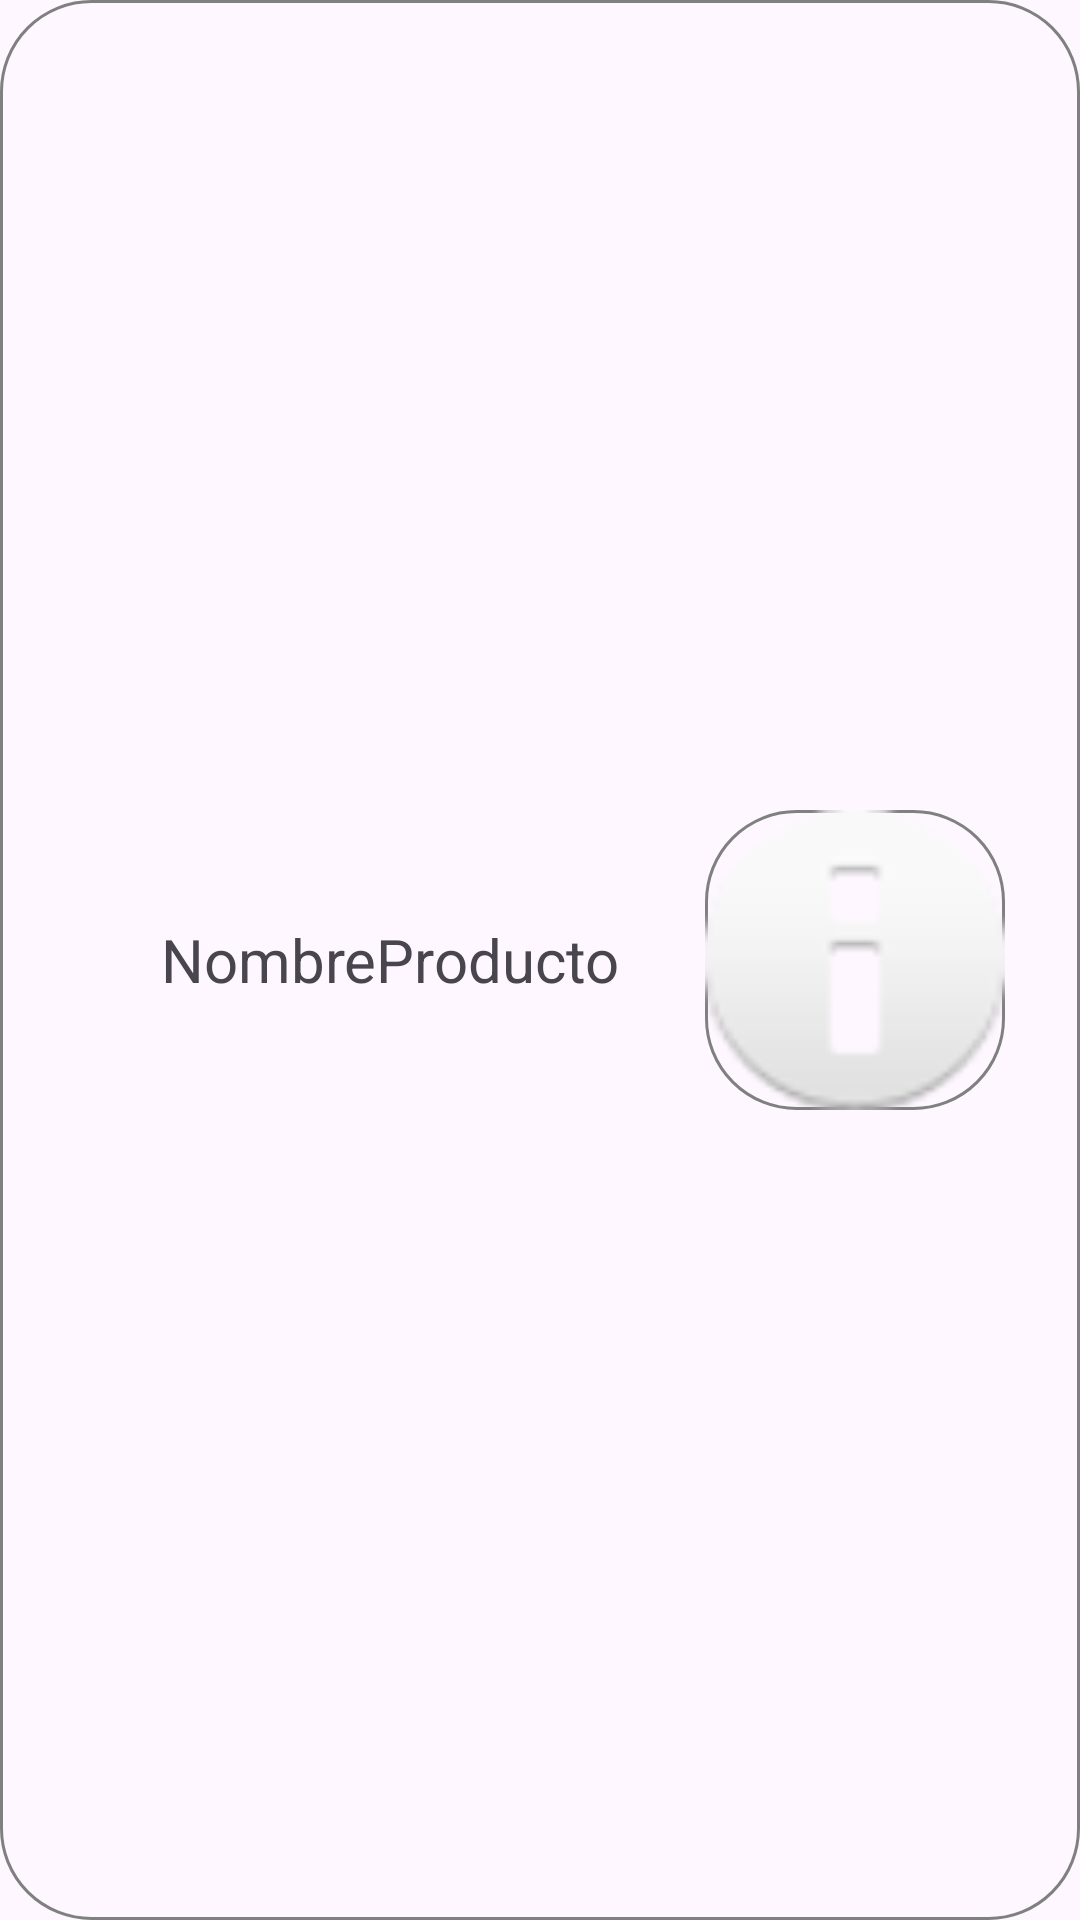

Icon bounding boxes for this 1080w x 1920h phone screenshot, format (x1, y1, x2, y2):
info: (705, 810, 1005, 1110)
